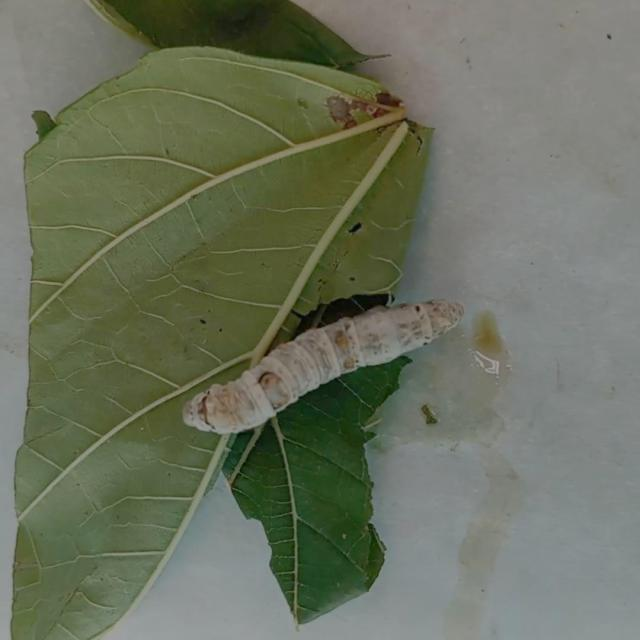Grasserie: (164, 251, 478, 464)
